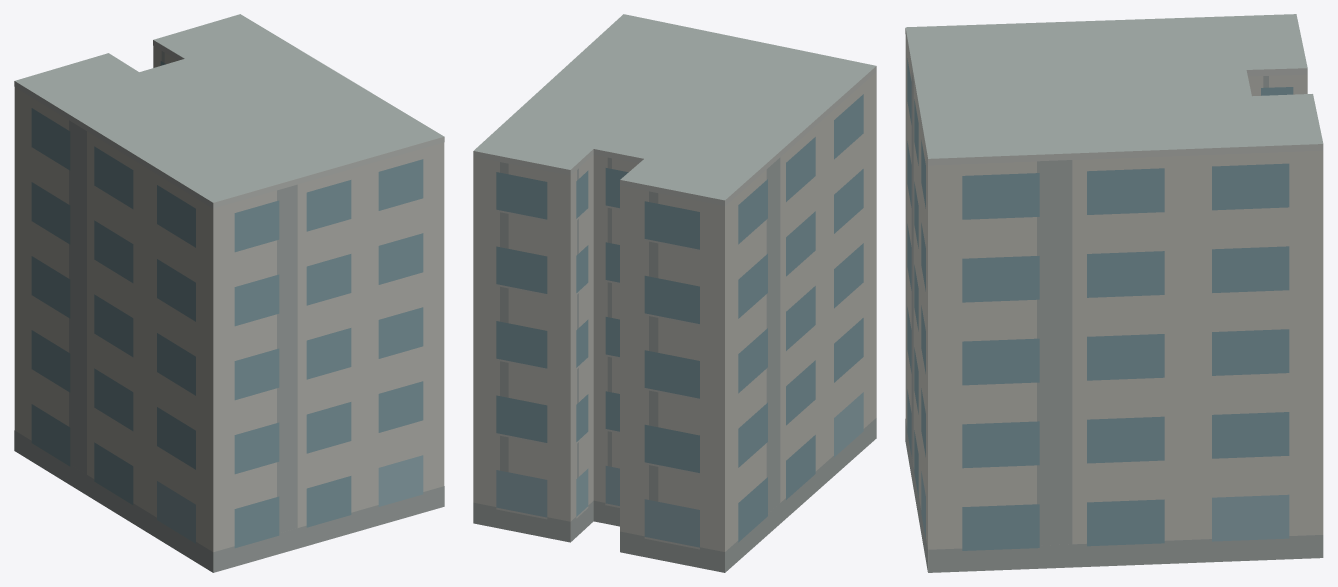
The model's file is survey-upis-32555885.glb.
The picture shows the model from 3 angles, left to right: view 1: azimuth 30°, elevation 25°; view 2: azimuth 150°, elevation 25°; view 3: azimuth 270°, elevation 25°; orthographic projection. The views are drawn at different scales.
Visible parts, largest first — view 1: survey-upis-32555885.tmp; view 2: survey-upis-32555885.tmp; view 3: survey-upis-32555885.tmp.
Part boxes in pixels (x1=…): survey-upis-32555885.tmp: x1=14, y1=14, x2=444, y2=572; survey-upis-32555885.tmp: x1=473, y1=14, x2=876, y2=572; survey-upis-32555885.tmp: x1=905, y1=14, x2=1323, y2=572.
Bounding box in the file's own units: 11.64 × 15.5 × 14.19.
